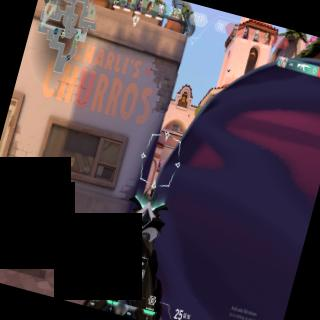ENEMY-BODY: (156, 158, 162, 170)
ENEMY-HEAD: (159, 158, 161, 161)
